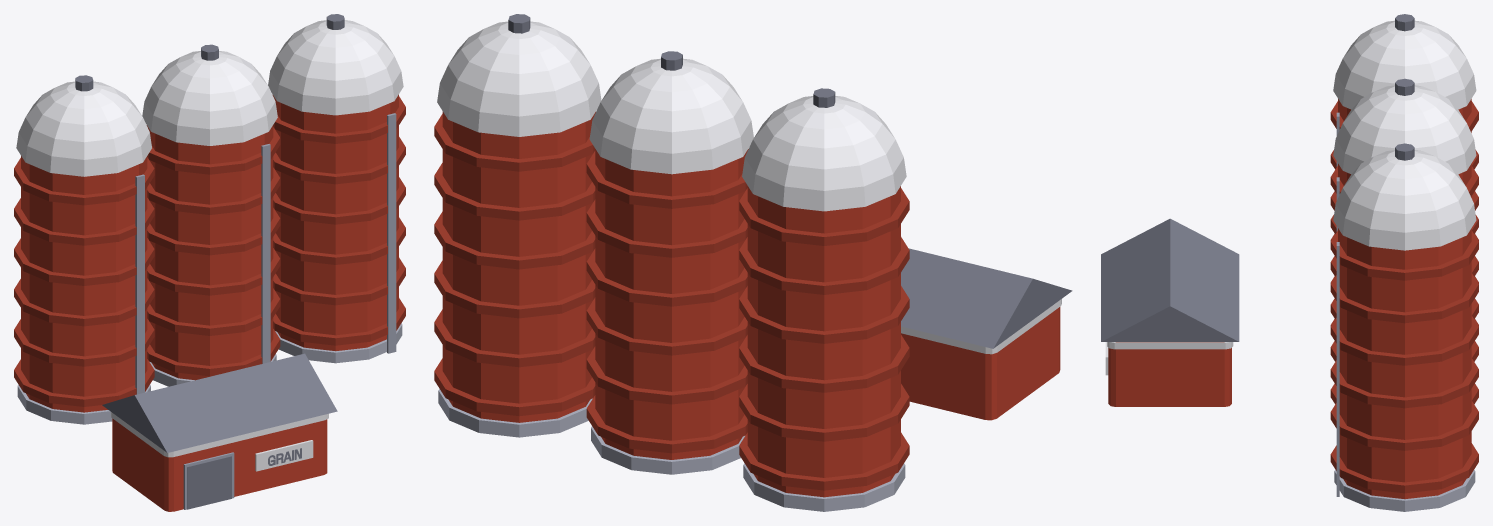
The model's file is silo-2x2-t6-tone-a.glb.
The picture shows the model from 3 angles, left to right: view 1: azimuth 30°, elevation 25°; view 2: azimuth 150°, elevation 25°; view 3: azimuth 270°, elevation 25°; orthographic projection. The views are drawn at different scales.
Visible parts, largest first — view 1: silo-2x2-t6-tone-a; view 2: silo-2x2-t6-tone-a; view 3: silo-2x2-t6-tone-a.
Boxes of the visible parts, x1=… form: silo-2x2-t6-tone-a: x1=14, y1=14, x2=405, y2=511; silo-2x2-t6-tone-a: x1=434, y1=14, x2=1072, y2=511; silo-2x2-t6-tone-a: x1=1101, y1=14, x2=1478, y2=511.
Size of the model in its own units: 1.84 by 1.5 by 1.53.
Materials: 1 (1 with a texture image).
